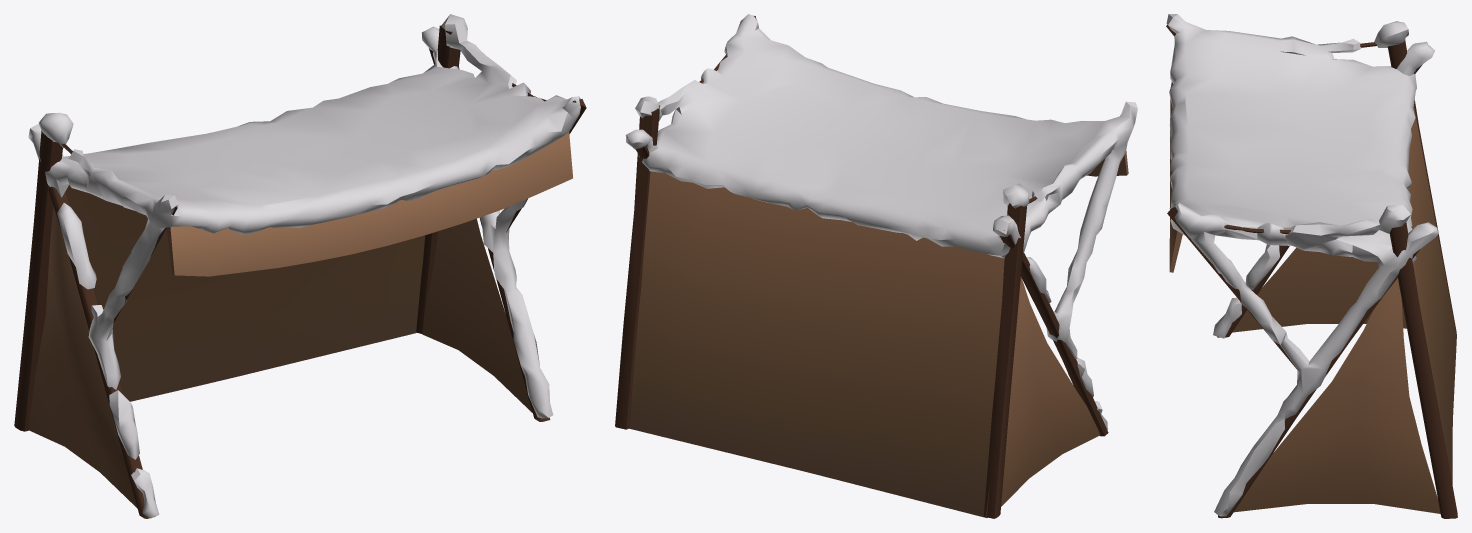
The model's file is TentSnowy_2.fbx.
3 views of the same model, side by side, from view 1: azimuth 30°, elevation 25°; view 2: azimuth 150°, elevation 25°; view 3: azimuth 270°, elevation 25° (orthographic). The views are drawn at different scales.
Visible parts, largest first — view 1: TentSnowy_2; view 2: TentSnowy_2; view 3: TentSnowy_2.
Boxes of the visible parts, x1,y1,x2,y2 form: TentSnowy_2: (14, 14, 586, 518); TentSnowy_2: (615, 14, 1137, 518); TentSnowy_2: (1166, 14, 1457, 518).
Size of the model in its own units: 291 by 221 by 184.
